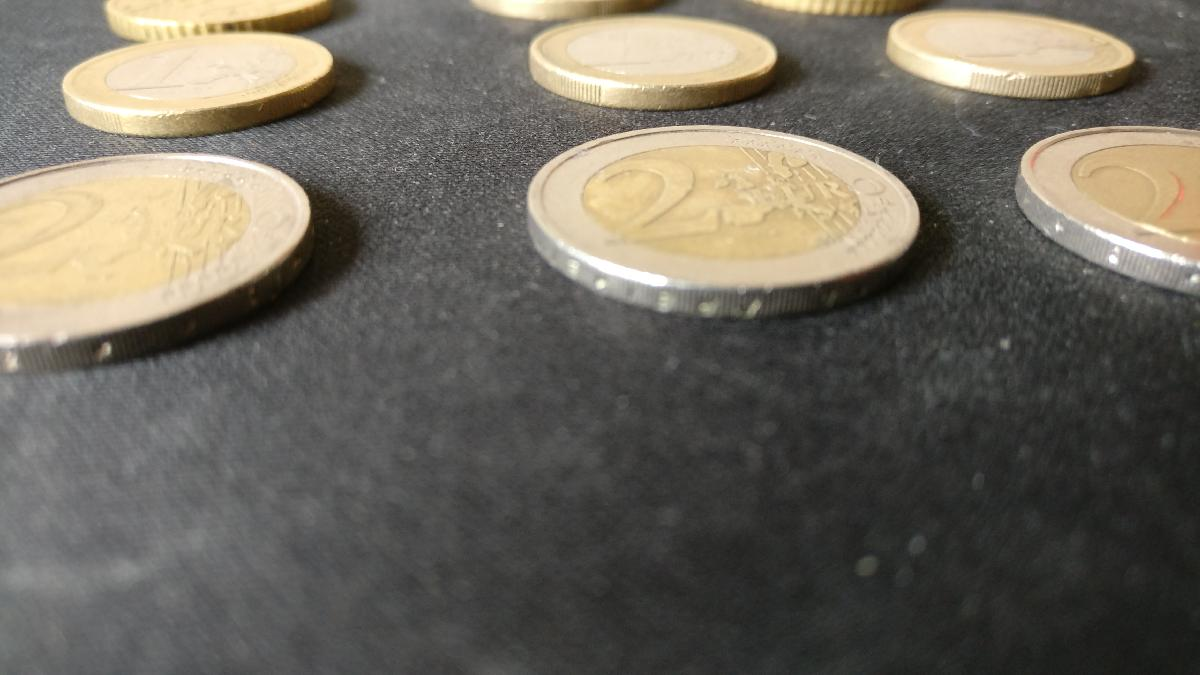Fifty Cent: (96, 1, 337, 39), (749, 1, 914, 16)
One Euro: (56, 31, 336, 139), (527, 11, 782, 109), (882, 6, 1141, 102)
Two Euro: (525, 123, 923, 323), (1, 154, 326, 383), (1014, 121, 1200, 295)
